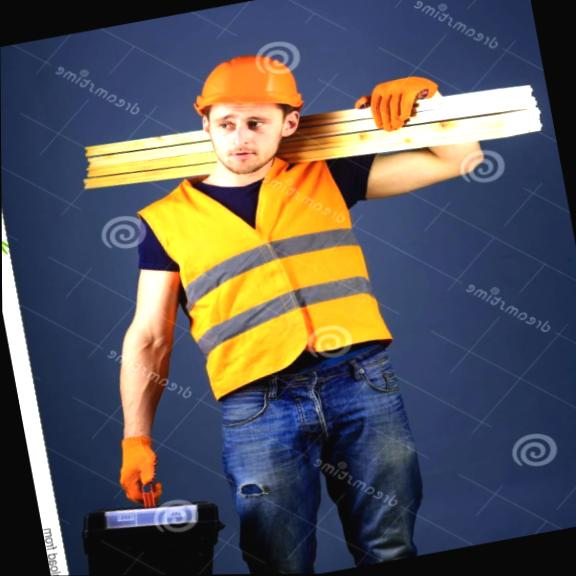safety_vest: (149, 138, 402, 409)
